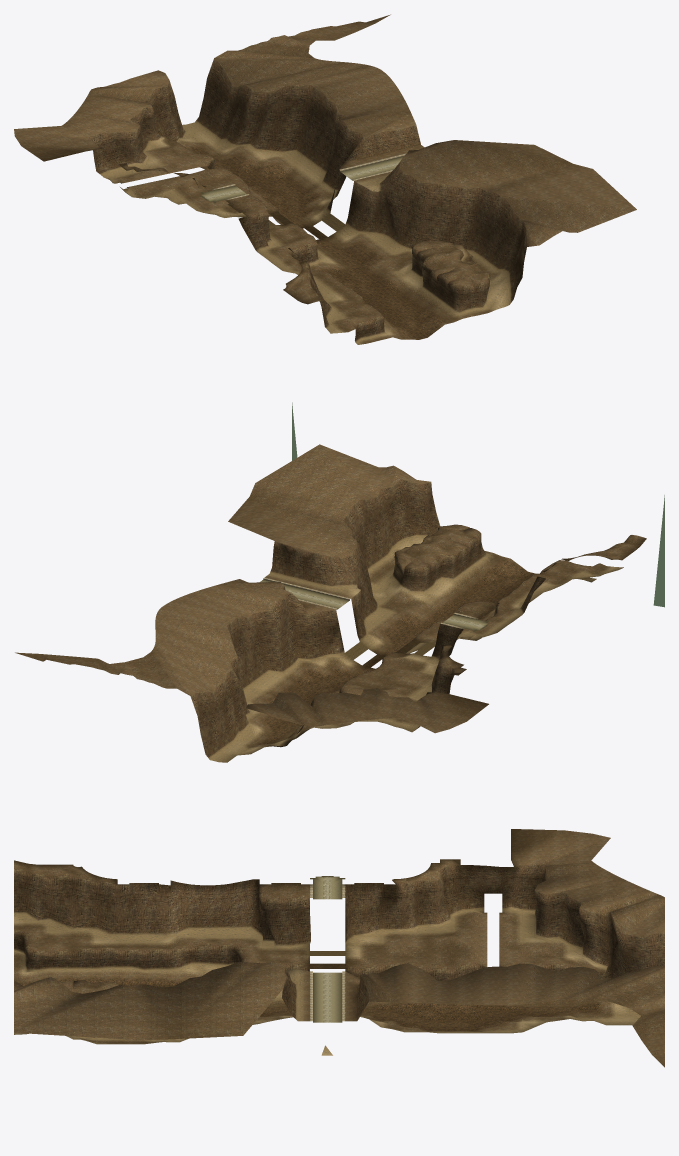
Rendered from Mission12_Zone01B.glb.
3 views of the same model, one above another, from view 1: azimuth 30°, elevation 25°; view 2: azimuth 150°, elevation 25°; view 3: azimuth 270°, elevation 25° (orthographic). The views are drawn at different scales.
Visible parts, largest first — view 1: MISSION12_ZONE01B063, MISSION12_ZONE01B141, MISSION12_ZONE01B306, MISSION12_ZONE01B321, MISSION12_ZONE01B048, MISSION12_ZONE01B113, MISSION12_ZONE01B151, MISSION12_ZONE01B016, MISSION12_ZONE01B125, MISSION12_ZONE01B364, MISSION12_ZONE01B128, MISSION12_ZONE01B101 (+28 smaller); view 2: MISSION12_ZONE01B063, MISSION12_ZONE01B243, MISSION12_ZONE01B141, MISSION12_ZONE01B102, MISSION12_ZONE01B013, MISSION12_ZONE01B215, MISSION12_ZONE01B047, MISSION12_ZONE01B142, MISSION12_ZONE01B201, MISSION12_ZONE01B089, MISSION12_ZONE01B061, MISSION12_ZONE01B353 (+28 smaller); view 3: MISSION12_ZONE01B063, MISSION12_ZONE01B141, MISSION12_ZONE01B142, MISSION12_ZONE01B346, MISSION12_ZONE01B155, MISSION12_ZONE01B206, MISSION12_ZONE01B129, MISSION12_ZONE01B314, MISSION12_ZONE01B002, MISSION12_ZONE01B220, MISSION12_ZONE01B262, MISSION12_ZONE01B019 (+54 smaller).
Part boxes in pixels (box(x1,y1,x2,y2)): MISSION12_ZONE01B063: box(503, 169, 636, 209); MISSION12_ZONE01B141: box(401, 140, 571, 163); MISSION12_ZONE01B306: box(272, 85, 310, 156); MISSION12_ZONE01B321: box(248, 87, 284, 153); MISSION12_ZONE01B048: box(506, 199, 635, 218); MISSION12_ZONE01B113: box(427, 185, 465, 242); MISSION12_ZONE01B151: box(367, 173, 406, 242); MISSION12_ZONE01B016: box(528, 209, 636, 232); MISSION12_ZONE01B125: box(406, 181, 438, 244); MISSION12_ZONE01B364: box(218, 60, 326, 76); MISSION12_ZONE01B128: box(411, 164, 570, 183); MISSION12_ZONE01B101: box(464, 188, 487, 246); MISSION12_ZONE01B063: box(256, 444, 354, 502); MISSION12_ZONE01B243: box(258, 600, 285, 677); MISSION12_ZONE01B141: box(250, 497, 334, 555); MISSION12_ZONE01B102: box(251, 496, 352, 526); MISSION12_ZONE01B013: box(408, 480, 439, 535); MISSION12_ZONE01B215: box(285, 592, 309, 659); MISSION12_ZONE01B047: box(377, 486, 404, 548); MISSION12_ZONE01B142: box(228, 496, 274, 540); MISSION12_ZONE01B201: box(309, 605, 338, 650); MISSION12_ZONE01B089: box(250, 483, 354, 502); MISSION12_ZONE01B061: box(366, 496, 393, 559); MISSION12_ZONE01B353: box(157, 632, 224, 692); MISSION12_ZONE01B063: box(15, 986, 141, 1040); MISSION12_ZONE01B141: box(173, 961, 282, 1038); MISSION12_ZONE01B142: box(173, 990, 281, 1039); MISSION12_ZONE01B346: box(579, 909, 609, 967); MISSION12_ZONE01B155: box(271, 899, 300, 951); MISSION12_ZONE01B206: box(366, 883, 395, 931); MISSION12_ZONE01B129: box(224, 879, 253, 928); MISSION12_ZONE01B314: box(534, 890, 564, 940); MISSION12_ZONE01B002: box(14, 871, 38, 921); MISSION12_ZONE01B220: box(392, 878, 418, 931); MISSION12_ZONE01B262: box(458, 865, 493, 912); MISSION12_ZONE01B019: box(37, 870, 62, 921).
Size of the model in its own units: 190 by 50.83 by 220.
31 materials, 30 textured.
